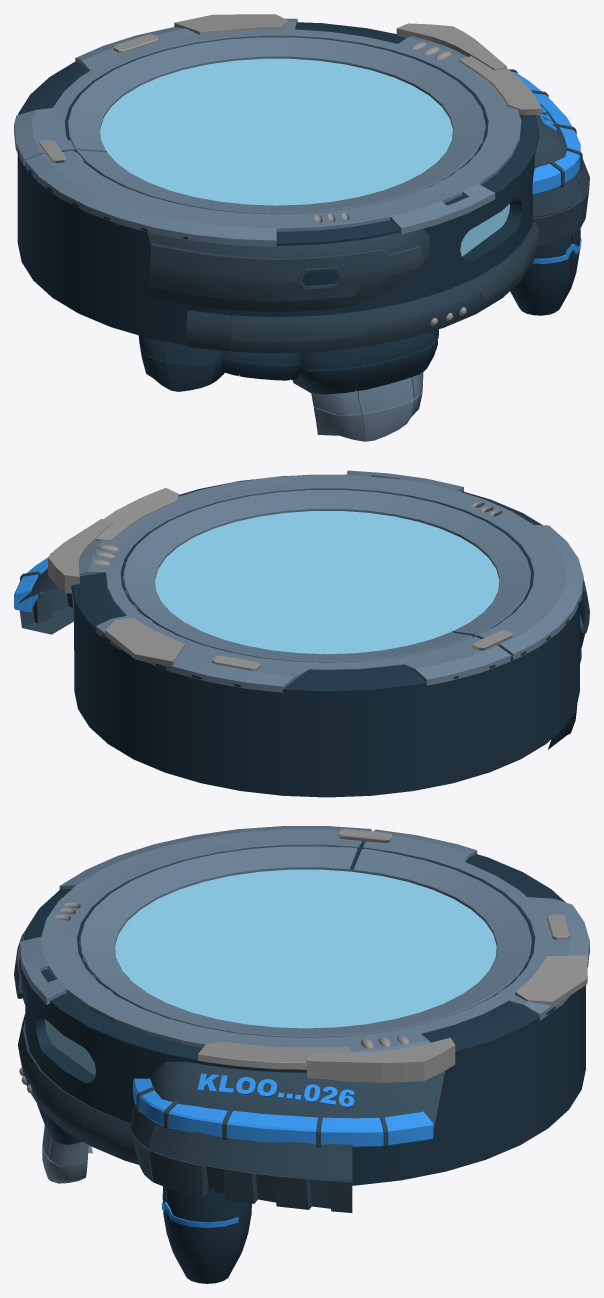
File: ui_main_3D_01.FBX
3 renders of one model, top to bottom at view 1: azimuth 30°, elevation 25°; view 2: azimuth 150°, elevation 25°; view 3: azimuth 270°, elevation 25°, orthographic. The views are drawn at different scales.
Parts seen in each view (by area): view 1: Object083, Object074, zhuan_02, Shape016, zhuan_01, Object066, Cylinder088, zhuan_03, Cylinder091, Cylinder089, Line030, Object073 (+2 smaller); view 2: Object083, Object074, zhuan_02, zhuan_01, zhuan_03, Shape016, zhuan_04, Line030; view 3: Object074, Object083, Shape016, zhuan_02, zhuan_01, zhuan_03, Line030, Cylinder089, Cylinder088, Cylinder091, Text001, zhuan_04 (+1 smaller).
Boxes of the visible parts, x1=… form: Object083: x1=14, y1=22, x2=539, y2=394; Object074: x1=100, y1=58, x2=452, y2=205; zhuan_02: x1=14, y1=18, x2=521, y2=246; Shape016: x1=149, y1=69, x2=589, y2=341; zhuan_01: x1=68, y1=37, x2=485, y2=214; Object066: x1=147, y1=229, x2=429, y2=311; Cylinder088: x1=186, y1=233, x2=538, y2=353; zhuan_03: x1=174, y1=14, x2=541, y2=115; Cylinder091: x1=311, y1=372, x2=423, y2=441; Cylinder089: x1=510, y1=229, x2=580, y2=315; Line030: x1=512, y1=72, x2=580, y2=195; Object073: x1=301, y1=330, x2=436, y2=370; Object083: x1=71, y1=475, x2=583, y2=797; Object074: x1=155, y1=511, x2=499, y2=654; zhuan_02: x1=79, y1=470, x2=583, y2=692; zhuan_01: x1=123, y1=490, x2=530, y2=662; zhuan_03: x1=48, y1=488, x2=184, y2=665; Shape016: x1=19, y1=552, x2=589, y2=634; zhuan_04: x1=91, y1=502, x2=512, y2=670; Line030: x1=14, y1=557, x2=47, y2=612; Object074: x1=115, y1=869, x2=496, y2=1028; Object083: x1=23, y1=842, x2=589, y2=1185; Shape016: x1=14, y1=930, x2=444, y2=1212; zhuan_02: x1=19, y1=826, x2=589, y2=1052; zhuan_01: x1=79, y1=846, x2=531, y2=1037; zhuan_03: x1=197, y1=955, x2=587, y2=1082; Line030: x1=133, y1=1078, x2=433, y2=1147; Cylinder089: x1=162, y1=1186, x2=251, y2=1283; Cylinder088: x1=19, y1=1019, x2=138, y2=1164; Cylinder091: x1=42, y1=1125, x2=92, y2=1183; Text001: x1=197, y1=1073, x2=355, y2=1107; zhuan_04: x1=55, y1=829, x2=569, y2=1048.
Size of the model in its own units: 290 by 121 by 256.
